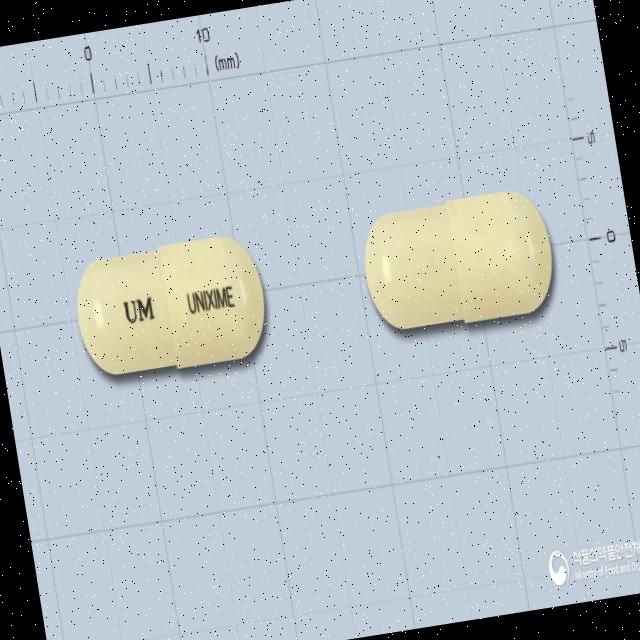Unixcim Cap: (356, 184, 562, 339), (68, 230, 274, 384)
